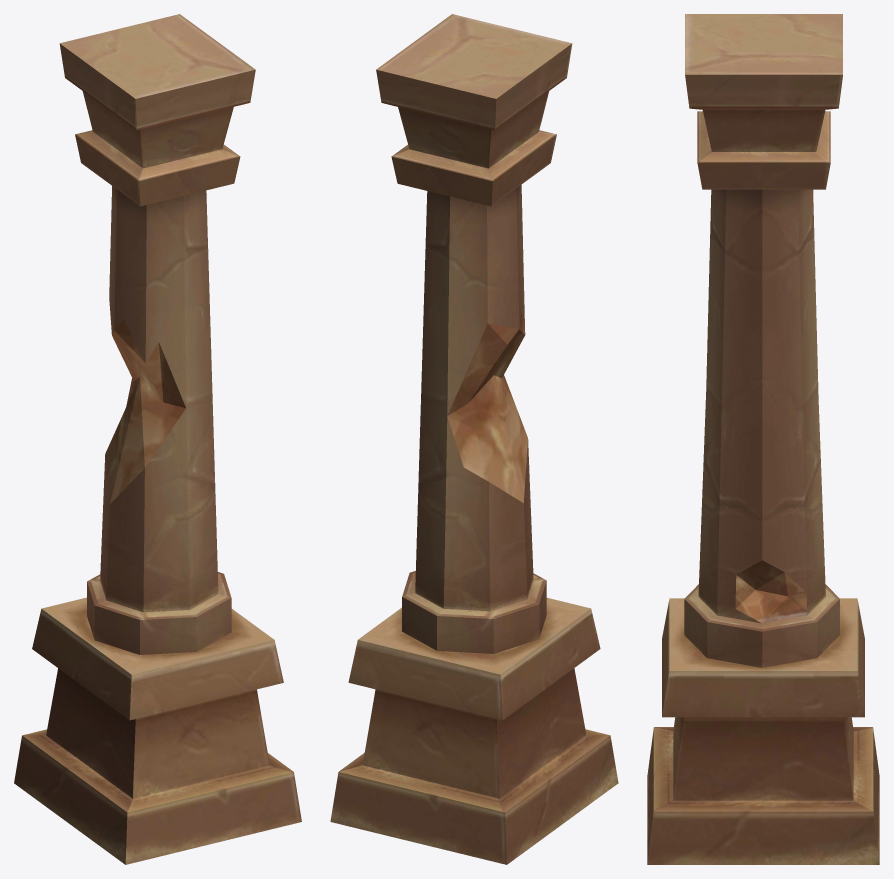
Rendered from YiJi_zhuzi_01.fbx.
3 renders of one model, left to right at view 1: azimuth 30°, elevation 25°; view 2: azimuth 150°, elevation 25°; view 3: azimuth 270°, elevation 25°, orthographic. The views are drawn at different scales.
Parts seen in each view (by area): view 1: YiJi_zhuzi_01; view 2: YiJi_zhuzi_01; view 3: YiJi_zhuzi_01.
Boxes of the visible parts, x1,y1,x2,y2 form: YiJi_zhuzi_01: (14, 14, 301, 864); YiJi_zhuzi_01: (330, 14, 618, 864); YiJi_zhuzi_01: (647, 14, 879, 864).
Bounding box in the file's own units: 1.3 × 5.24 × 1.42.
